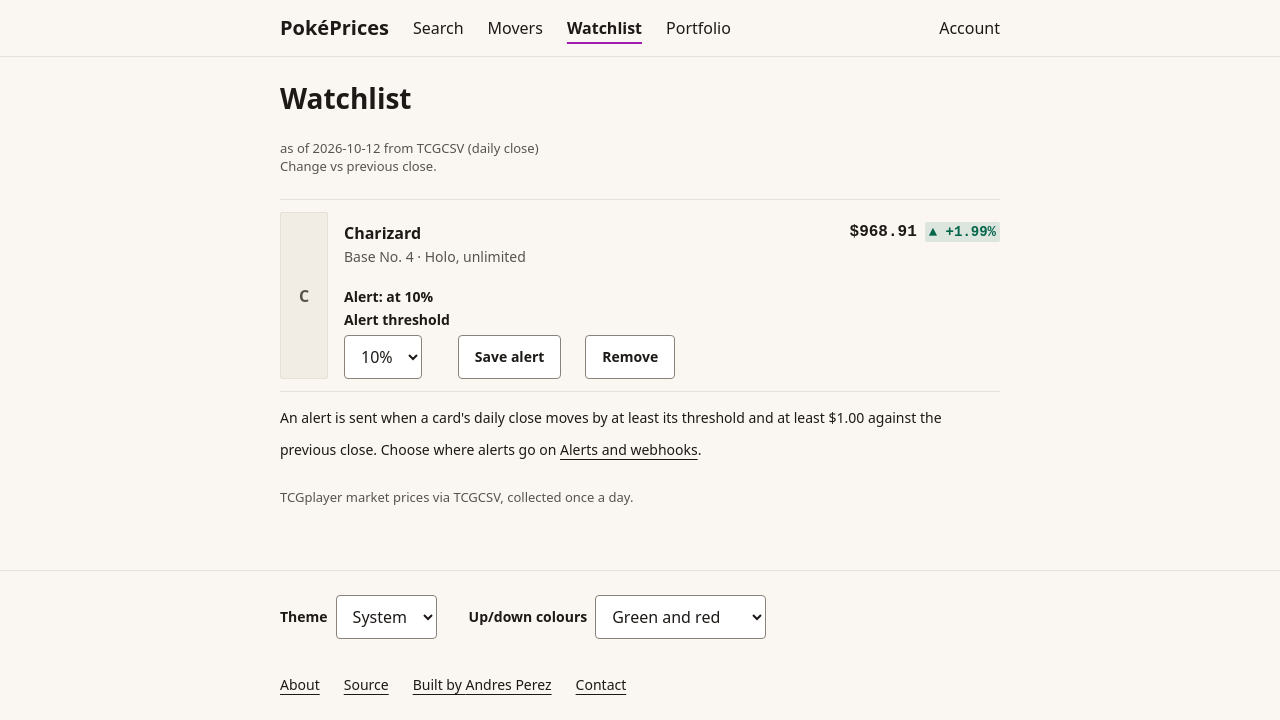
Test: the alert control on each watchlist row (P5 T07 criterion 3) › sends DELETE for Off, then refetches the watchlist
Expected: the text "Alert: at 10%" is shown, [344,287,433,306]
Select "Off" in the dropdown labelled "Alert threshold" at {"x": 383, "y": 357}, box [344,335,422,379]
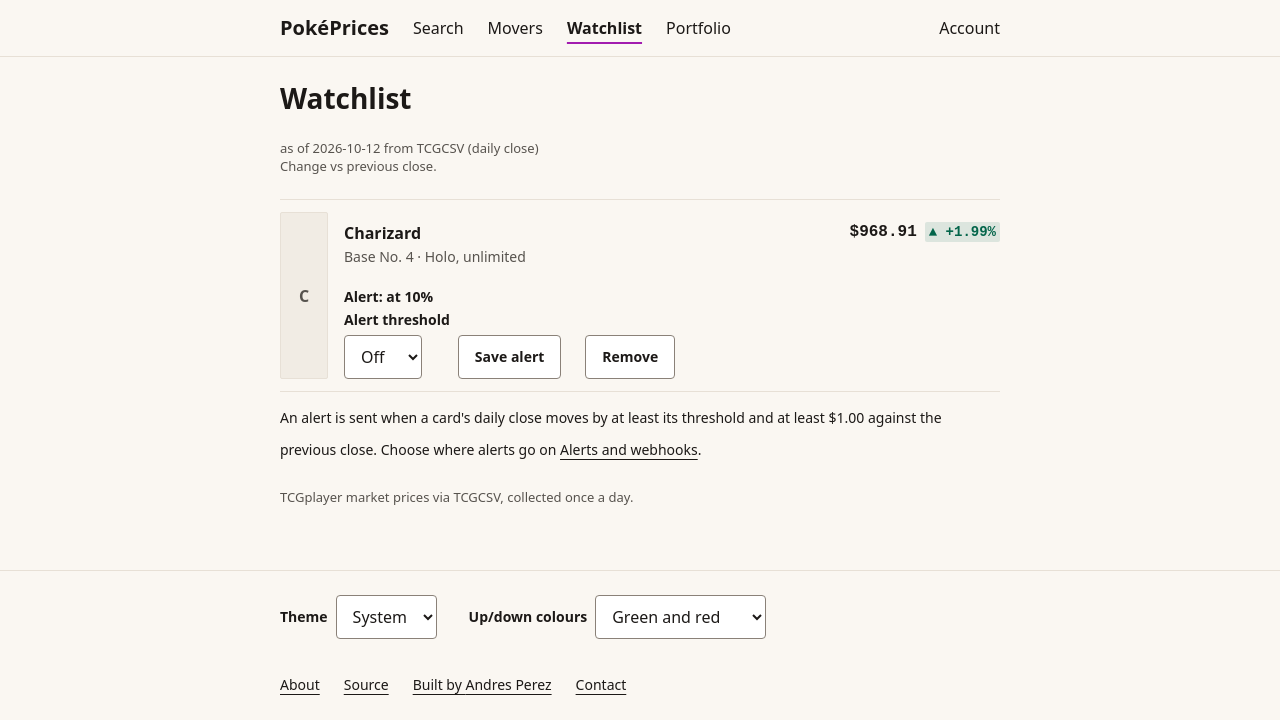
Click the button "Save alert" at {"x": 510, "y": 357}, box [458,335,561,379]
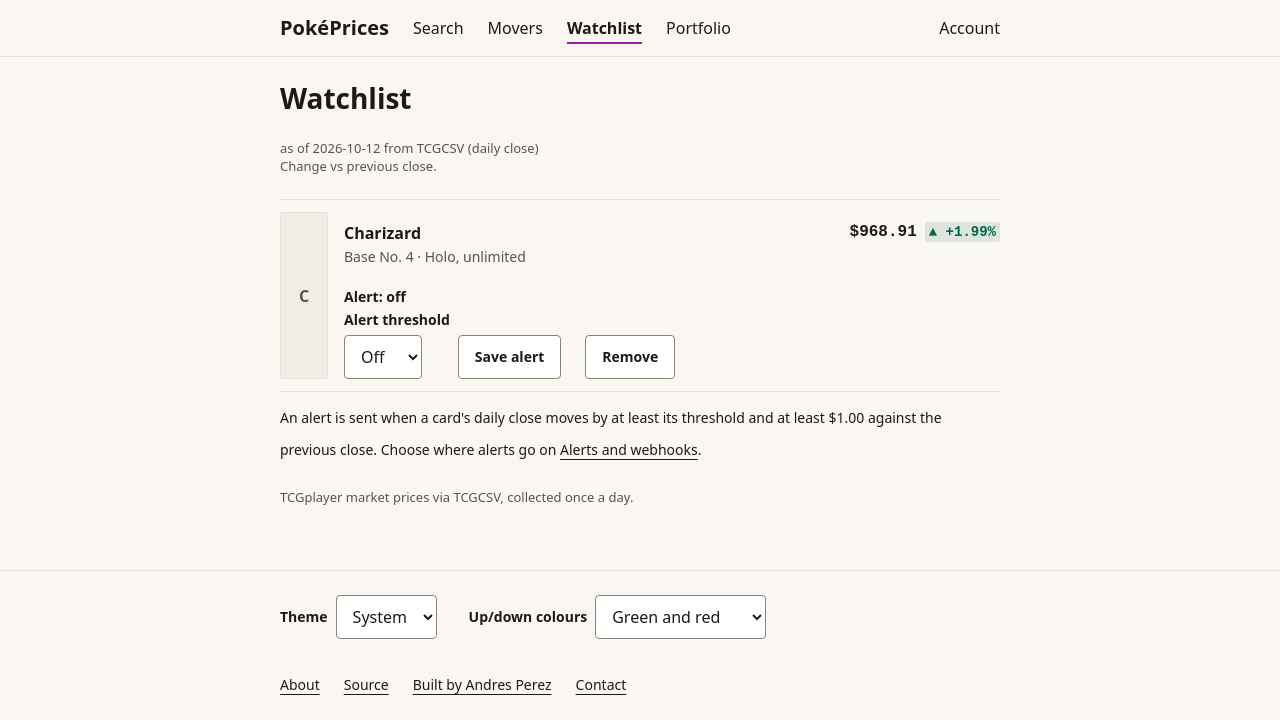
Now the text "Alert: off" is shown, box [344,287,406,306]
